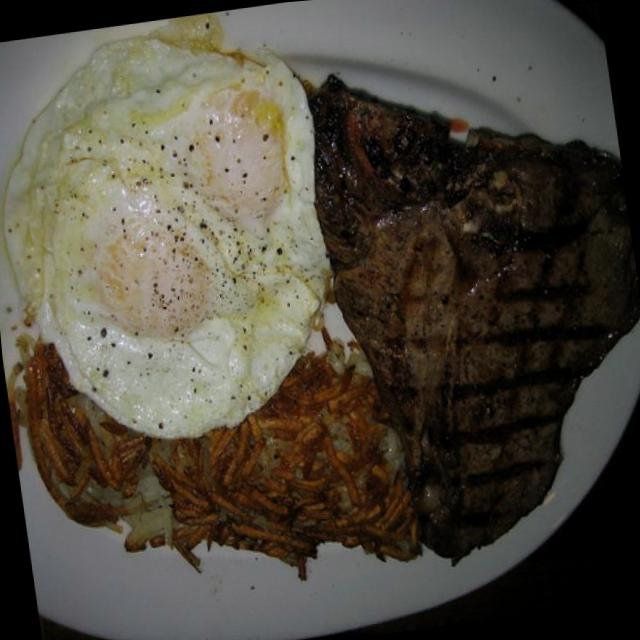Beef Steak: (300, 59, 640, 578)
Egg: (0, 30, 340, 456)
